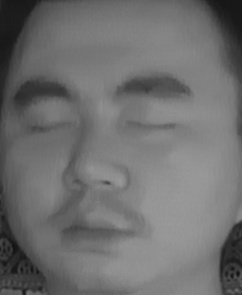blink: (127, 104, 180, 141), (25, 106, 72, 138)
mouth: (50, 201, 142, 256)
